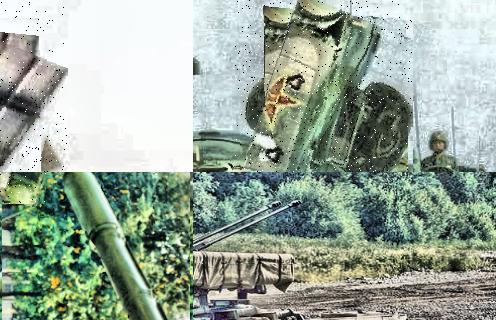tanks: (243, 1, 413, 173), (61, 173, 166, 320), (194, 202, 308, 320), (1, 173, 47, 205), (365, 315, 390, 320), (394, 313, 400, 320), (353, 315, 360, 320)
